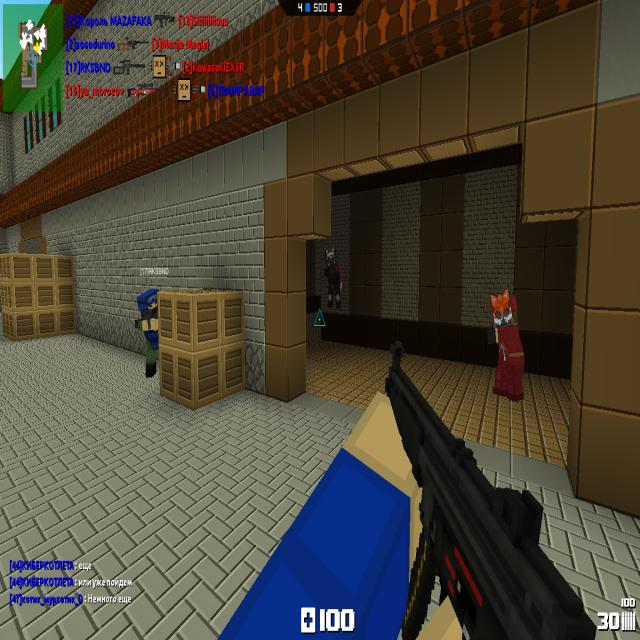enemy: (489, 292, 524, 401), (324, 247, 341, 308)
